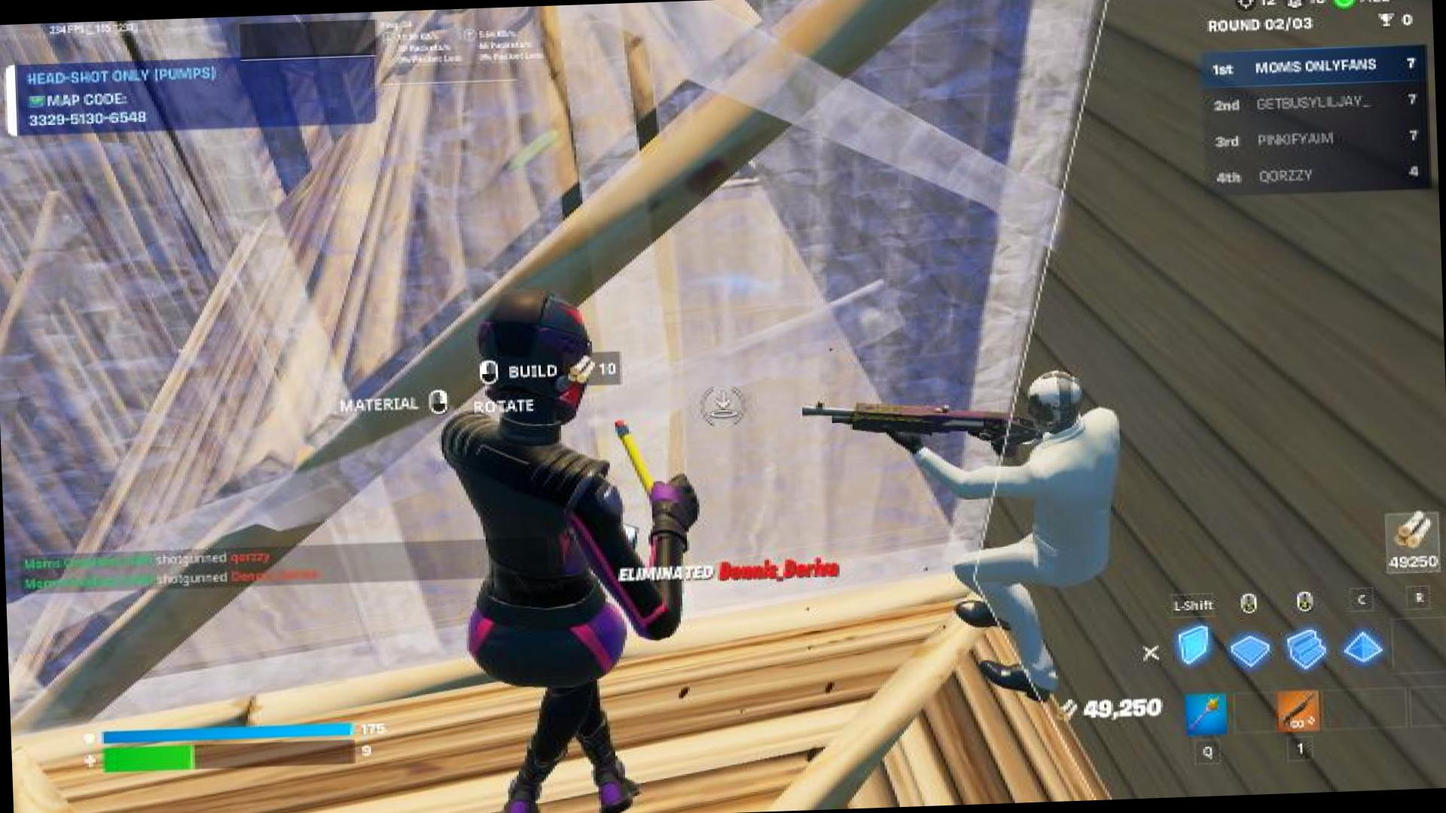player: (956, 377, 1132, 698)
